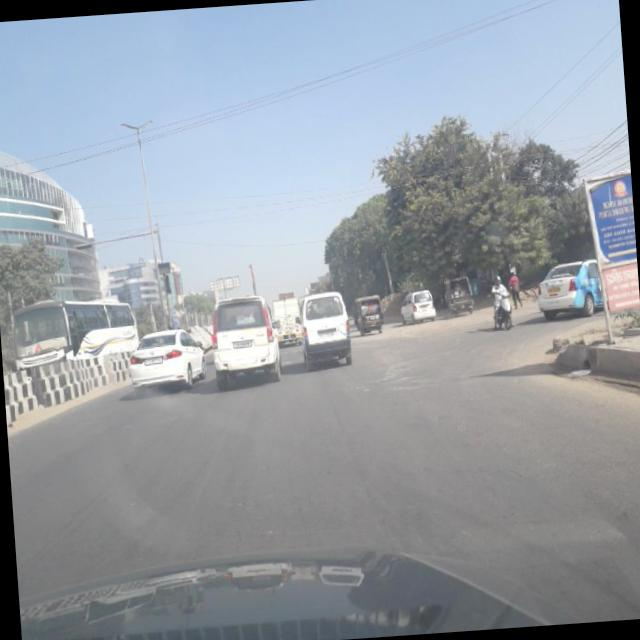crack: (203, 451, 346, 553)
